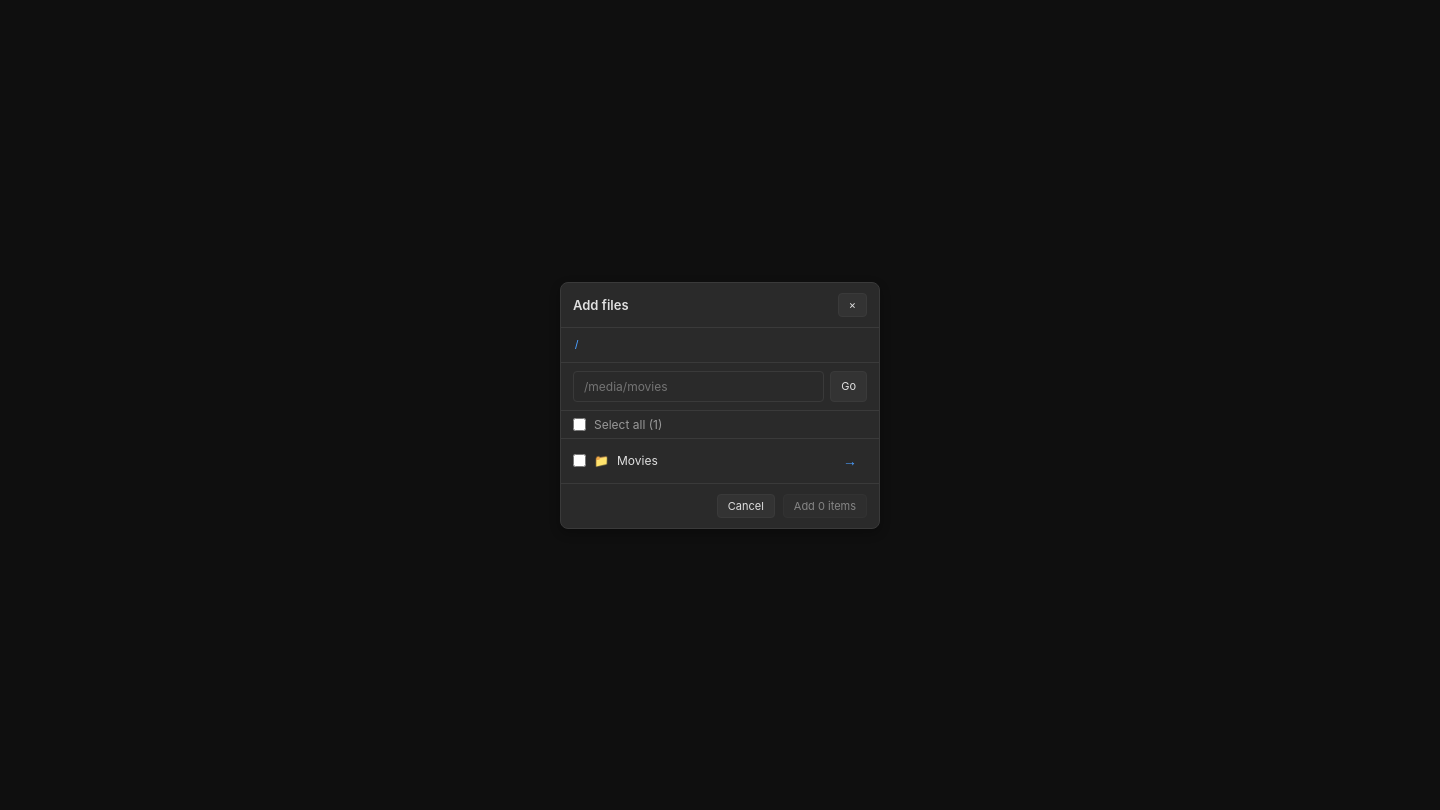
FileBrowserModal › navigates into a directory via its open button, not by clicking the row
Click the text "Movies": [637, 460] box x1=617 y1=453 x2=658 y2=468
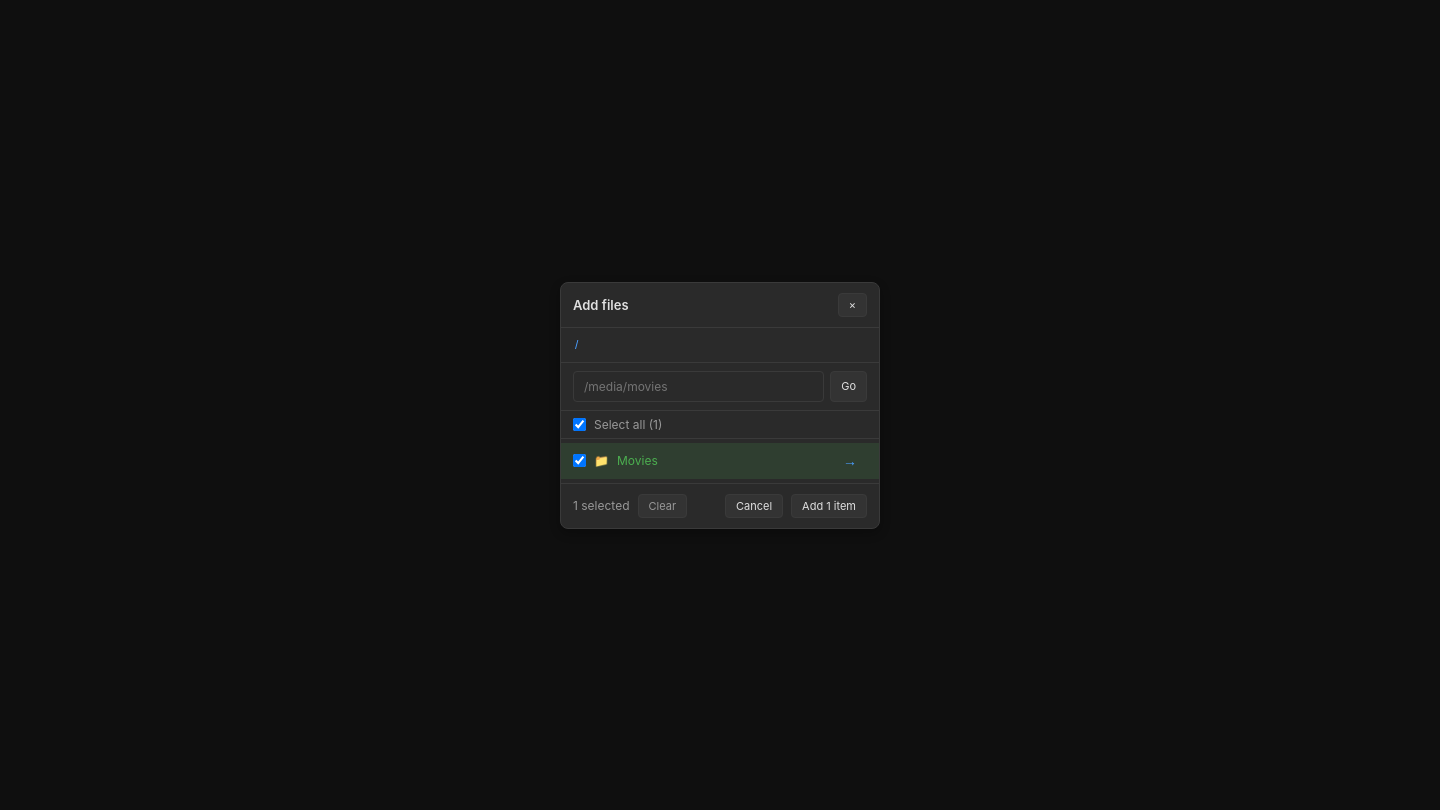
Click the button named "Open Movies": [850, 460] box x1=833 y1=448 x2=867 y2=472
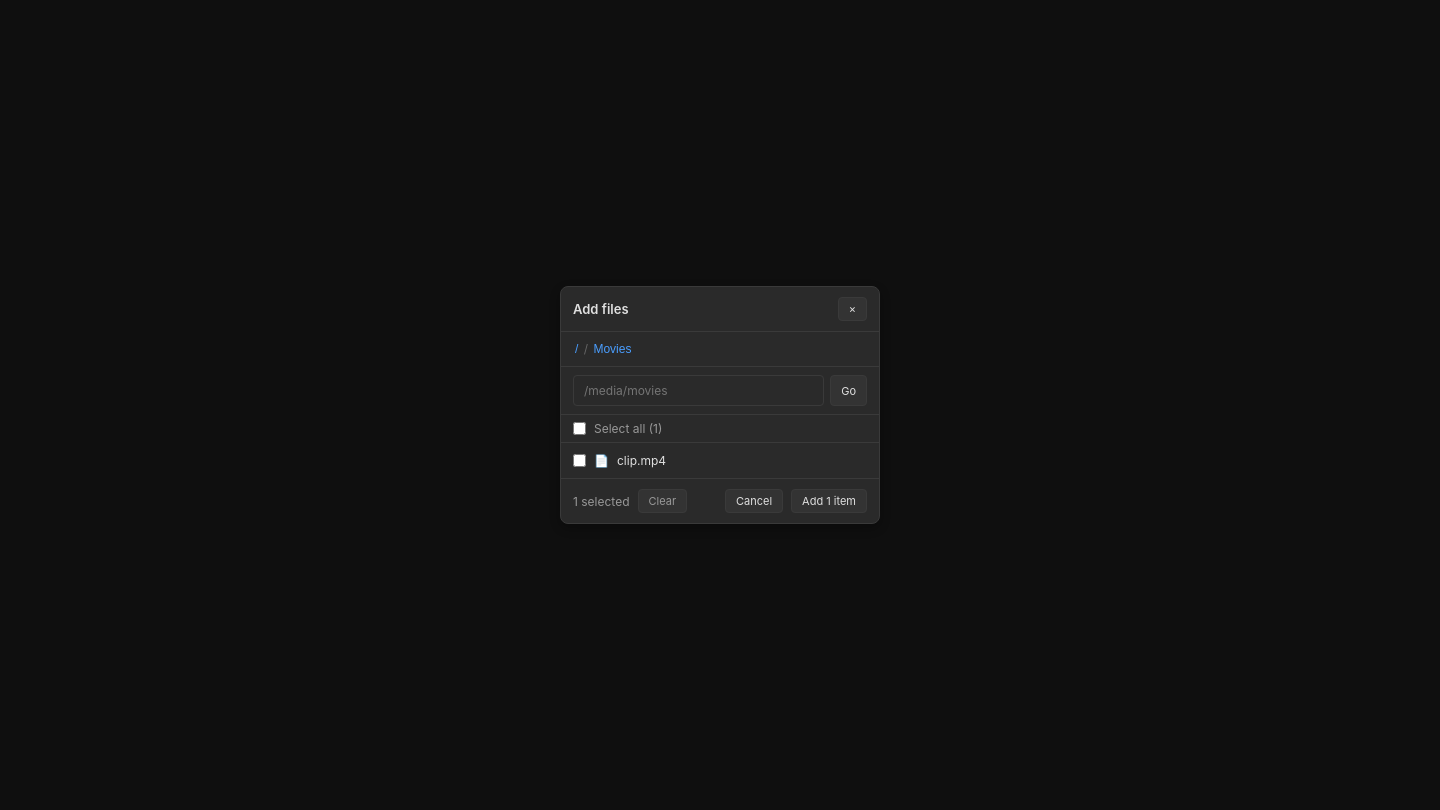
Now the text "clip.mp4" is shown, box x1=617 y1=453 x2=666 y2=468
